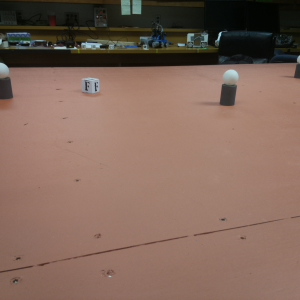blockF: (82, 77, 100, 94)
obstacle: (221, 69, 237, 105), (1, 61, 13, 101)
